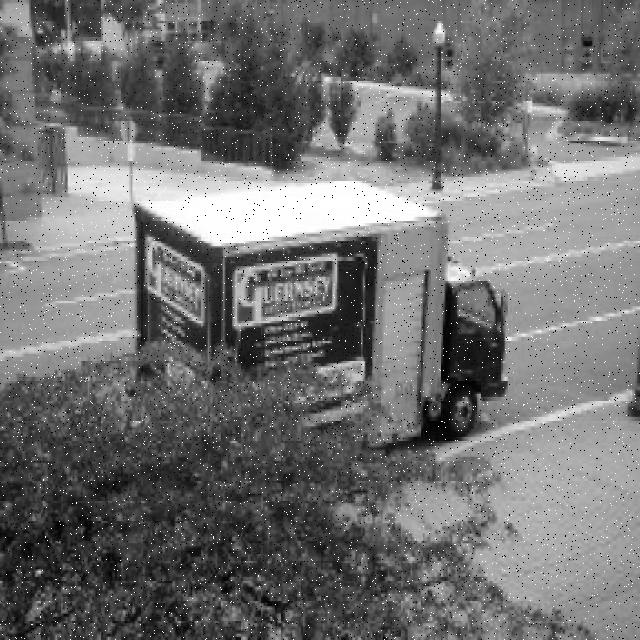Box Truck: (134, 181, 510, 446)
